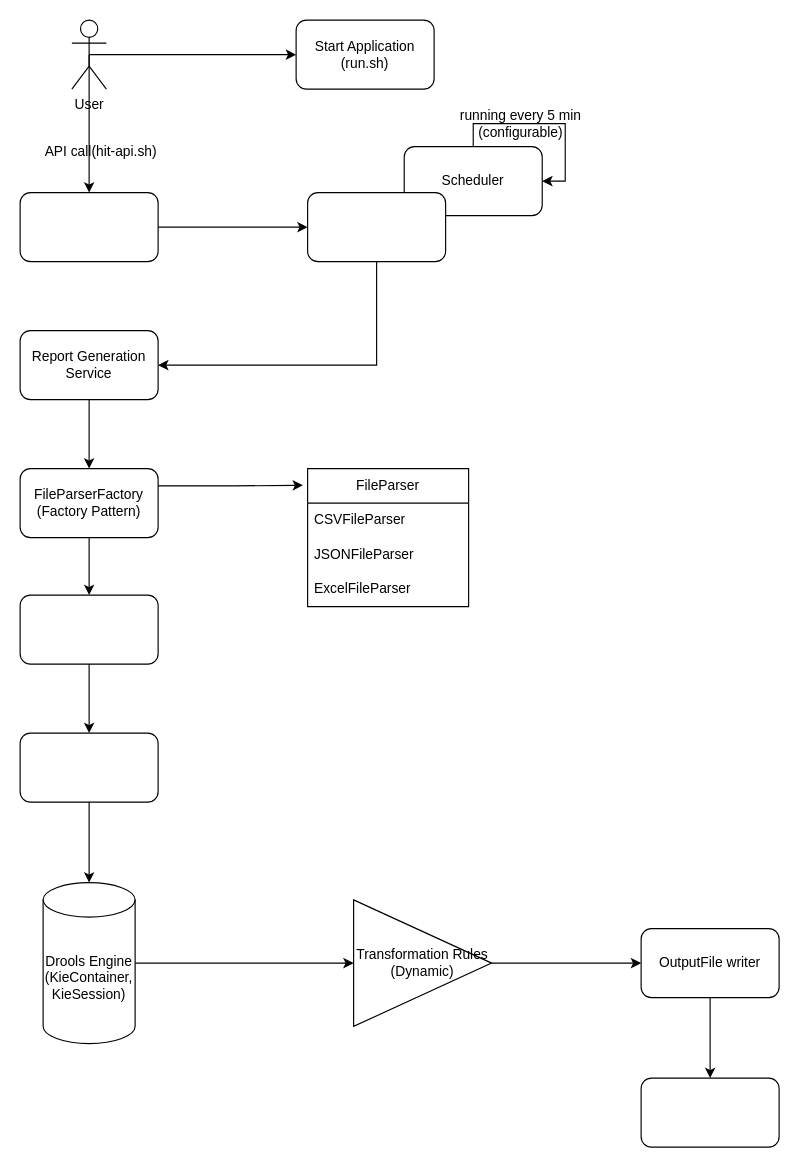
This 799x1167 diagram has some shape labels left out. The shapes that lost their labels are listed below. From the top down, each one's centre as x and y in pixels, then its label:
At pixel 88 226: "Rest Controller".
At pixel 376 226: "ReportGenerator".
At pixel 88 629: "FileParser Interface".
At pixel 88 767: "FileParser (CSV, Json, Excel, Txt)".
At pixel 709 1112: "Output Report".
